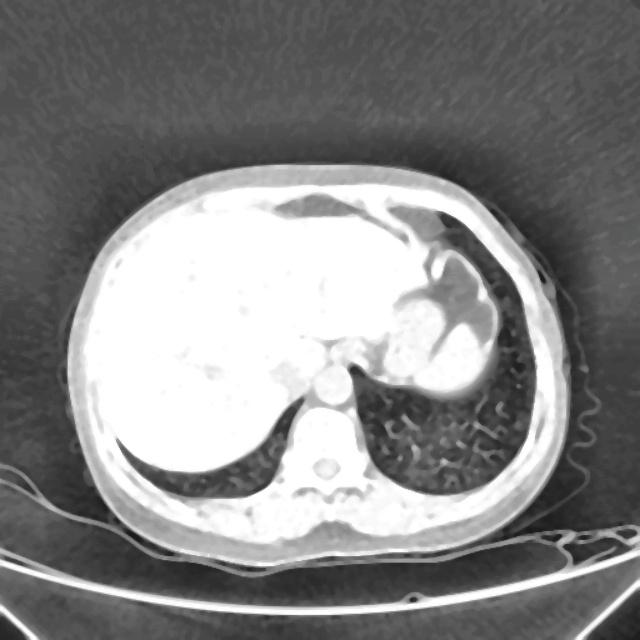covid: (65, 161, 573, 572)
